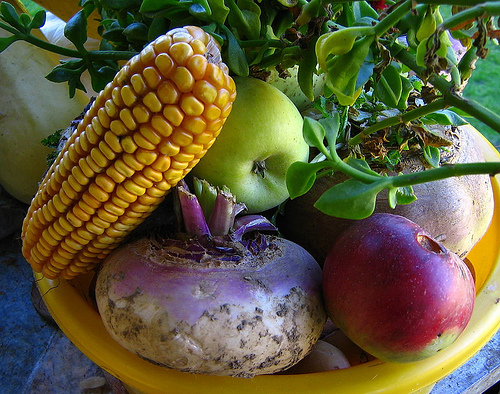turnip: (94, 177, 329, 378)
